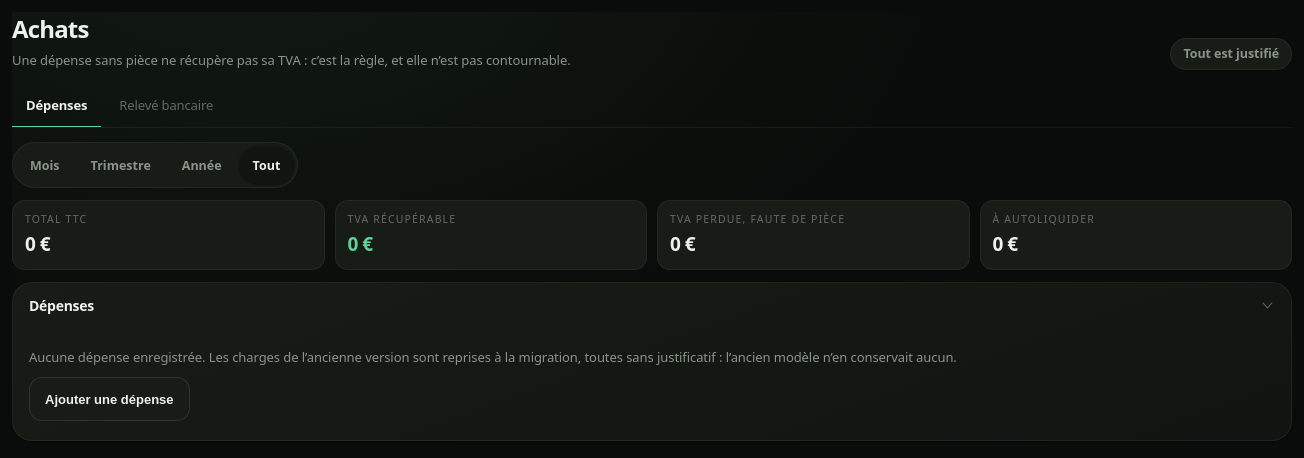
Test case: période d’observation › offre la navigation dès qu’une maille est bornée
The width and height of the screenshot is (1304, 458).
Click the button "Mois" at (45, 165), box [16, 146, 74, 184]
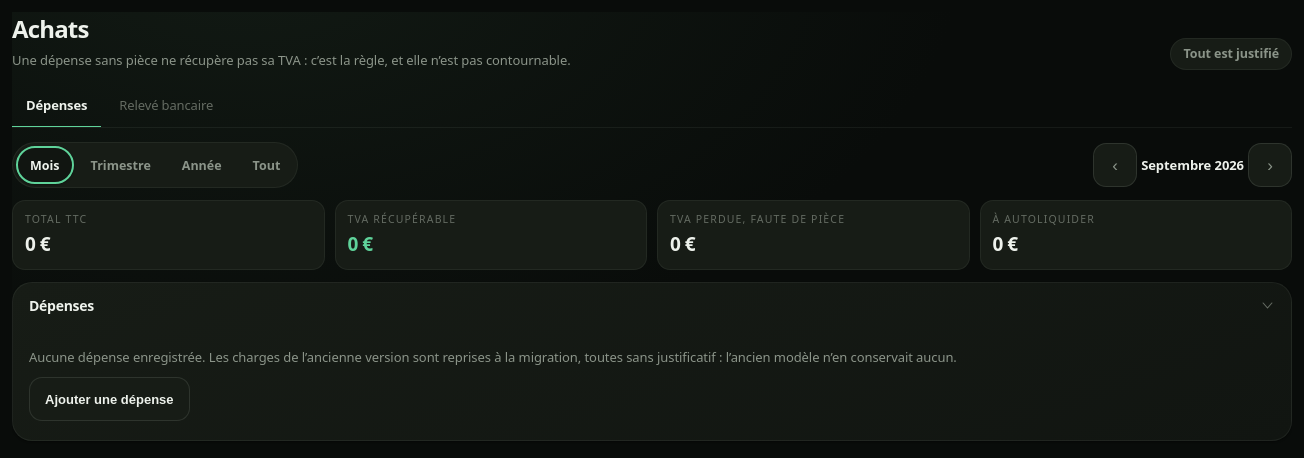
Now the button named "Période précédente" is shown, box [1093, 143, 1137, 187]
